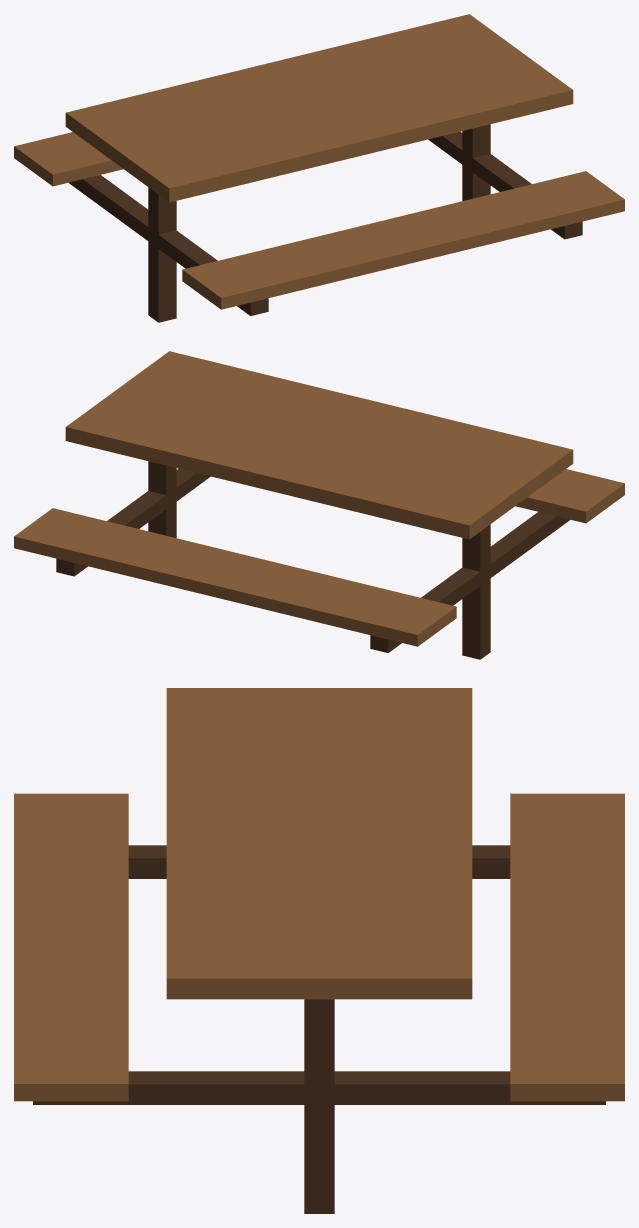
The model's file is SM_PicnicTable.fbx.
3 renders of one model, top to bottom at view 1: azimuth 30°, elevation 25°; view 2: azimuth 150°, elevation 25°; view 3: azimuth 270°, elevation 25°, orthographic. The views are drawn at different scales.
Visible parts, largest first — view 1: SM_PicnicTable; view 2: SM_PicnicTable; view 3: SM_PicnicTable.
Part boxes in pixels (box(x1,y1,x2,y2)): SM_PicnicTable: box(14, 14, 624, 322); SM_PicnicTable: box(14, 351, 624, 659); SM_PicnicTable: box(14, 688, 624, 1213).
Size of what is drawn, in the model's own units: 1.8 by 0.755 by 1.6.
